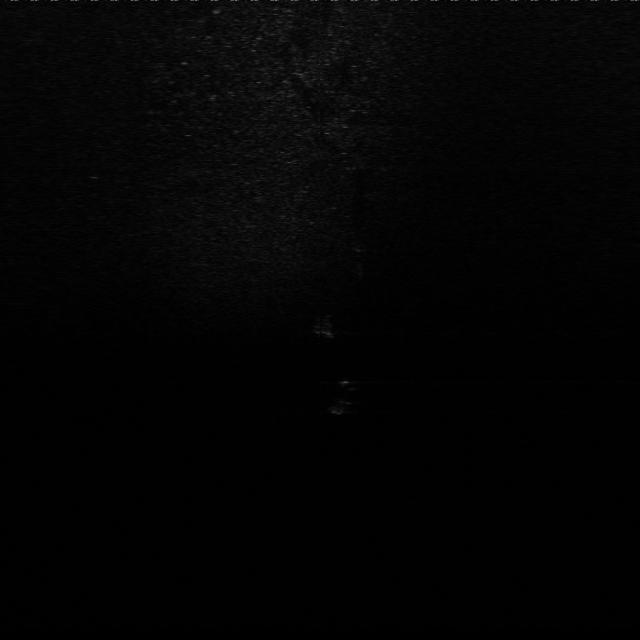ball: (348, 238, 371, 256)
circle cage: (306, 305, 346, 341)
tyre: (322, 372, 367, 416)
